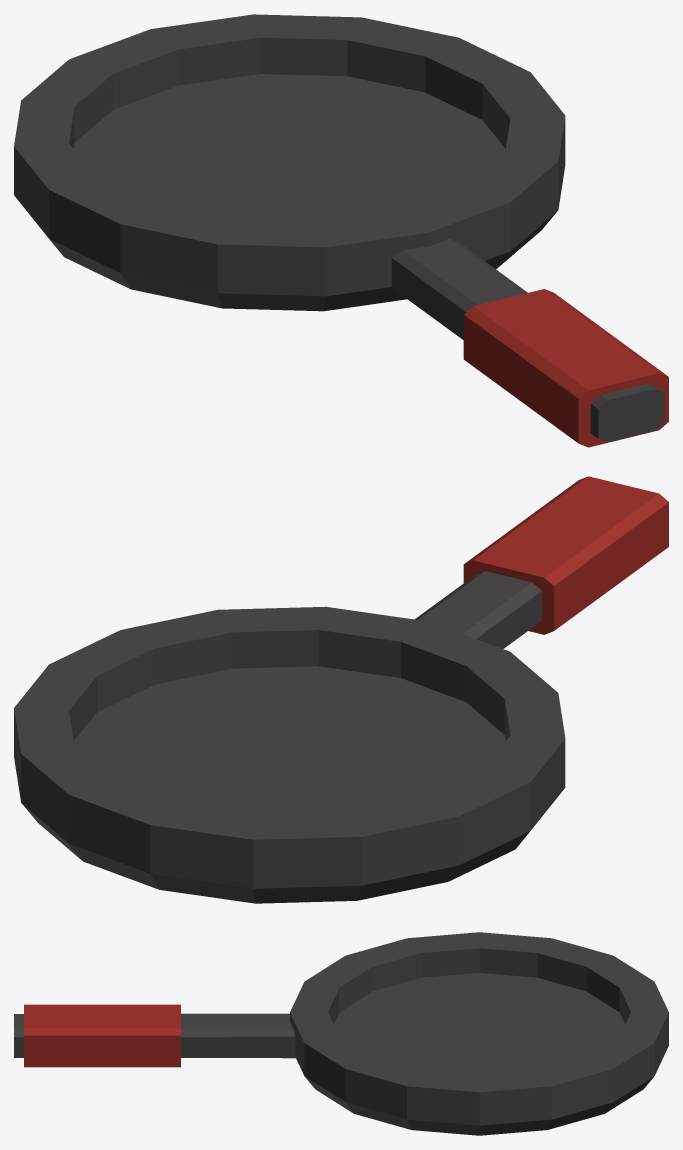
The model's file is pot.fbx.
The picture shows the model from 3 angles, top to bottom: view 1: azimuth 30°, elevation 25°; view 2: azimuth 150°, elevation 25°; view 3: azimuth 270°, elevation 25°; orthographic projection. The views are drawn at different scales.
Visible parts, largest first — view 1: Cylinder.026; view 2: Cylinder.026; view 3: Cylinder.026.
Boxes of the visible parts, x1,y1,x2,y2 form: Cylinder.026: [14, 14, 668, 447]; Cylinder.026: [14, 476, 668, 903]; Cylinder.026: [14, 932, 668, 1135].
Bounding box in the file's own units: 73.61 × 13.65 × 127.
